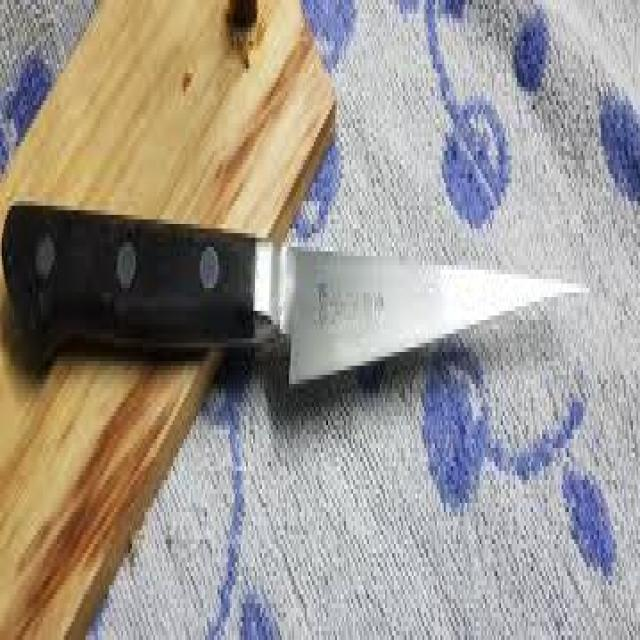Knife: (0, 147, 592, 399)
